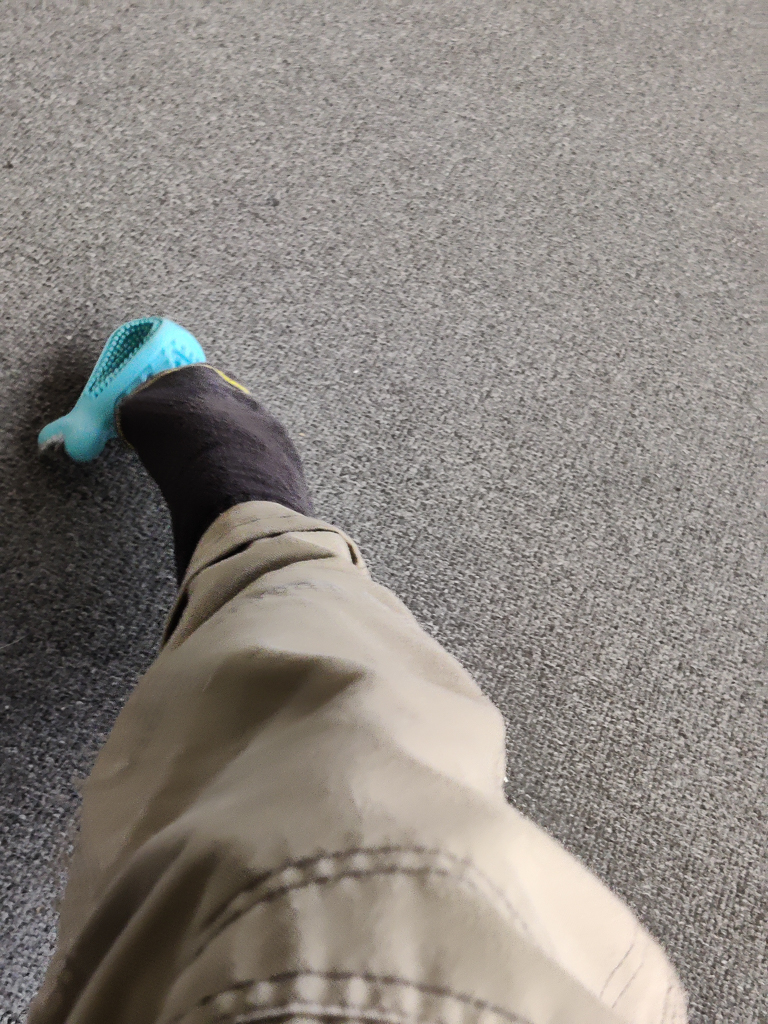Humanoid: (12, 351, 708, 1024)
